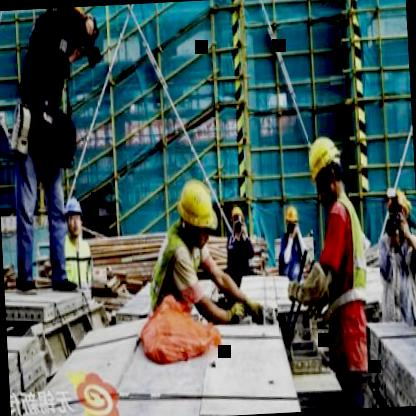helmet: (172, 180, 218, 242), (307, 136, 344, 202), (387, 188, 412, 240), (53, 6, 86, 43), (64, 198, 84, 235), (283, 205, 300, 233), (230, 206, 245, 236)
